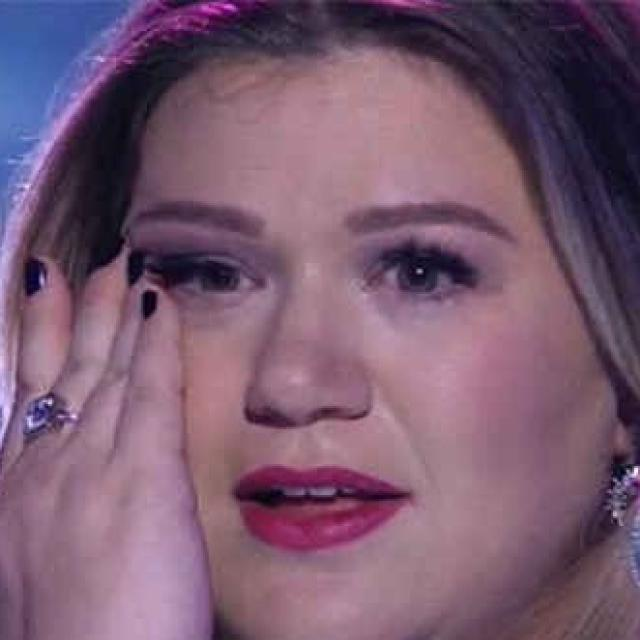Depress: (98, 58, 627, 638)
